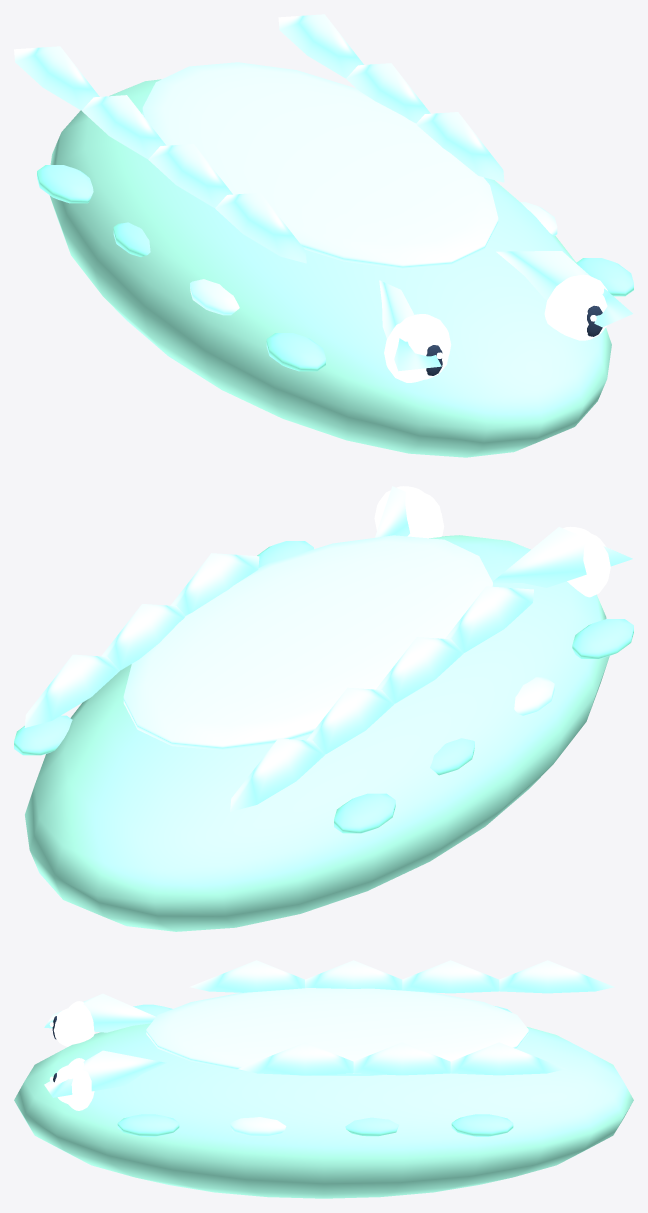
Rendered from dewdrop-crawler.glb.
3 renders of one model, top to bottom at view 1: azimuth 30°, elevation 25°; view 2: azimuth 150°, elevation 25°; view 3: azimuth 270°, elevation 25°, orthographic. The views are drawn at different scales.
Parts seen in each view (by area): view 1: body, mantle-glow, cerata-0, swim-fin-1-blade, cerata-6, cerata-5, cerata-4, cerata-2, cerata-1, cerata-3, swim-fin--1-blade, scale--1-0 (+8 smaller); view 2: body, mantle-glow, swim-fin--1-blade, cerata-5, cerata-6, cerata-0, cerata-2, cerata-4, cerata-3, cerata-1, scale--1-3, scale--1-0 (+7 smaller); view 3: body, mantle-glow, cerata-5, swim-fin-1-blade, cerata-1, cerata-6, cerata-3, cerata-0, cerata-4, cerata-2, swim-fin--1-blade, scale-1-0 (+6 smaller).
Part boxes in pixels (x1,y1,x2,y2): body: (49, 79, 611, 457); mantle-glow: (142, 62, 498, 269); cerata-0: (215, 192, 306, 263); swim-fin-1-blade: (496, 251, 632, 327); cerata-6: (14, 46, 99, 110); cerata-5: (278, 14, 363, 78); cerata-4: (81, 95, 166, 159); cerata-2: (148, 144, 232, 207); cerata-1: (416, 112, 504, 182); cerata-3: (346, 63, 430, 123); swim-fin--1-blade: (379, 280, 441, 371); scale--1-0: (266, 333, 325, 371); body: (25, 535, 609, 931); mantle-glow: (123, 535, 492, 750); swim-fin--1-blade: (493, 527, 632, 587); cerata-5: (24, 654, 119, 727); cerata-6: (230, 738, 325, 811); cerata-0: (445, 586, 533, 652); cerata-2: (376, 637, 463, 703); cerata-4: (307, 687, 394, 754); cerata-3: (101, 604, 185, 670); cerata-1: (170, 553, 259, 615); scale--1-3: (334, 793, 395, 833); scale--1-0: (572, 619, 633, 658); body: (14, 1023, 633, 1198); mantle-glow: (146, 988, 528, 1075); cerata-5: (450, 1042, 566, 1075); swim-fin-1-blade: (44, 1050, 166, 1097); cerata-1: (238, 1042, 353, 1075); cerata-6: (499, 960, 614, 993); cerata-3: (353, 1042, 450, 1075); cerata-0: (189, 960, 304, 992); cerata-4: (402, 960, 499, 993); cerata-2: (305, 960, 402, 990); swim-fin--1-blade: (44, 993, 155, 1032); scale-1-0: (117, 1114, 179, 1136).
Bounding box in the file's own units: 1.16 × 0.705 × 2.3.
